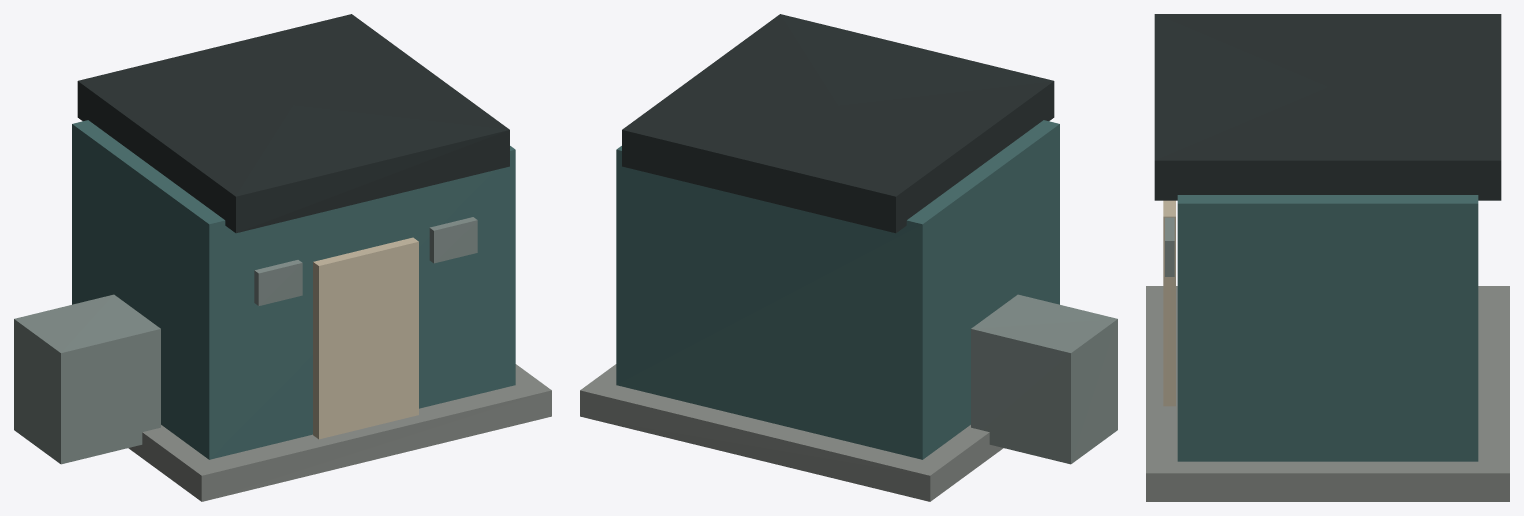
The model's file is Electrical-Shed.glb.
The picture shows the model from 3 angles, left to right: view 1: azimuth 30°, elevation 25°; view 2: azimuth 150°, elevation 25°; view 3: azimuth 270°, elevation 25°; orthographic projection. The views are drawn at different scales.
Visible parts, largest first — view 1: electrical-shed-static-shed-teal, electrical-shed-static-shed-iron, electrical-shed-static-shed-galv, electrical-shed-static-shed-cream, electrical-shed-static-shed-concrete; view 2: electrical-shed-static-shed-teal, electrical-shed-static-shed-iron, electrical-shed-static-shed-galv, electrical-shed-static-shed-concrete; view 3: electrical-shed-static-shed-teal, electrical-shed-static-shed-iron, electrical-shed-static-shed-concrete, electrical-shed-static-shed-cream, electrical-shed-static-shed-galv.
Part boxes in pixels (x1,y1,x2,y2): electrical-shed-static-shed-teal: (72,120,515,459); electrical-shed-static-shed-iron: (77,14,509,233); electrical-shed-static-shed-galv: (14,217,477,464); electrical-shed-static-shed-cream: (313,237,418,439); electrical-shed-static-shed-concrete: (128,364,551,501); electrical-shed-static-shed-teal: (616,120,1059,459); electrical-shed-static-shed-iron: (622,14,1054,233); electrical-shed-static-shed-galv: (971,294,1117,464); electrical-shed-static-shed-concrete: (580,364,1003,501); electrical-shed-static-shed-teal: (1177,195,1478,461); electrical-shed-static-shed-iron: (1154,14,1501,200); electrical-shed-static-shed-concrete: (1146,286,1509,501); electrical-shed-static-shed-cream: (1163,200,1175,406); electrical-shed-static-shed-galv: (1165,217,1174,276).
Bounding box in the file's own units: 3.45 × 2.24 × 2.3.
